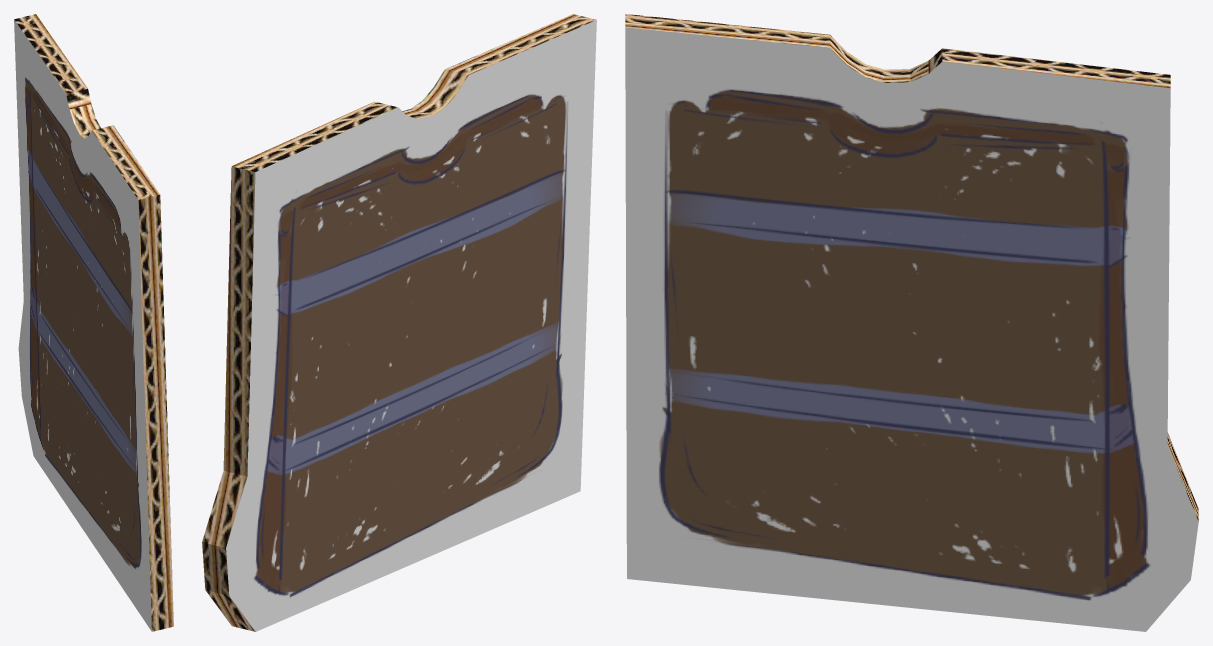
File: bag 1.fbx
3 views of the same model, side by side, from view 1: azimuth 30°, elevation 25°; view 2: azimuth 150°, elevation 25°; view 3: azimuth 270°, elevation 25° (orthographic). The views are drawn at different scales.
Parts seen in each view (by area): view 1: Vert.008; view 2: Vert.008; view 3: Vert.008.
Boxes of the visible parts, left/top/right/bottom form: Vert.008: left=14, top=14, right=173, bottom=631; Vert.008: left=202, top=14, right=596, bottom=631; Vert.008: left=625, top=14, right=1198, bottom=631.
Bounding box in the file's own units: 6.16 × 19.37 × 18.51.
